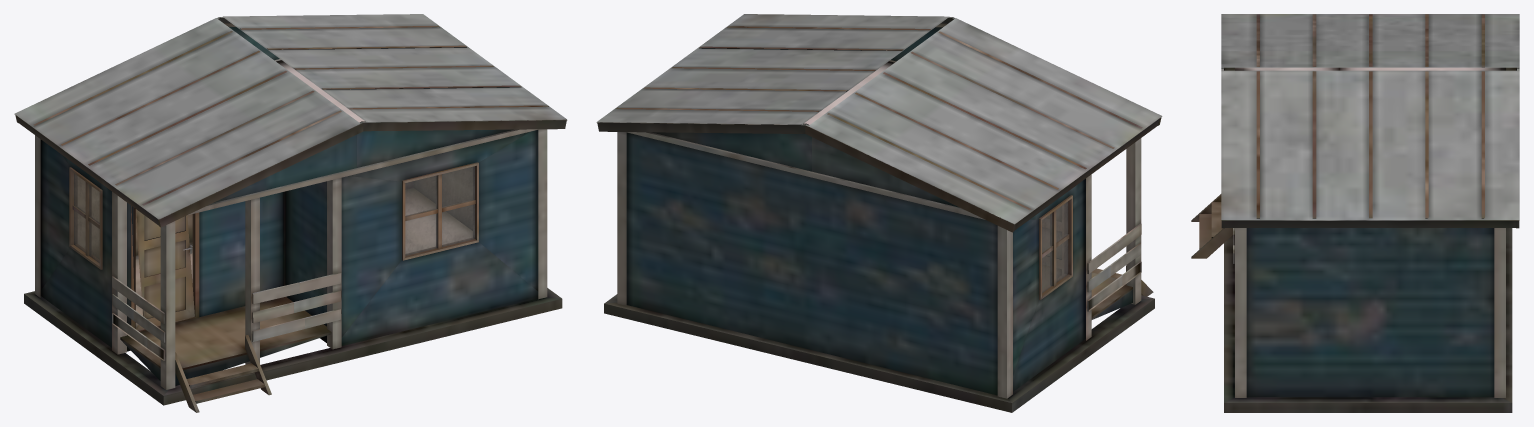
The model's file is shed_worn_far.glb.
The picture shows the model from 3 angles, left to right: view 1: azimuth 30°, elevation 25°; view 2: azimuth 150°, elevation 25°; view 3: azimuth 270°, elevation 25°; orthographic projection. The views are drawn at different scales.
Parts seen in each view (by area): view 1: baked, clear; view 2: baked, clear; view 3: baked.
Boxes of the visible parts, <box> form: baked: <box>14,14,567,412</box>; clear: <box>74,166,474,262</box>; baked: <box>596,14,1162,412</box>; clear: <box>1042,201,1068,293</box>; baked: <box>1191,14,1519,412</box>.
Size of the model in its own units: 644 by 354 by 434.
Materials: 2 (2 with a texture image).
